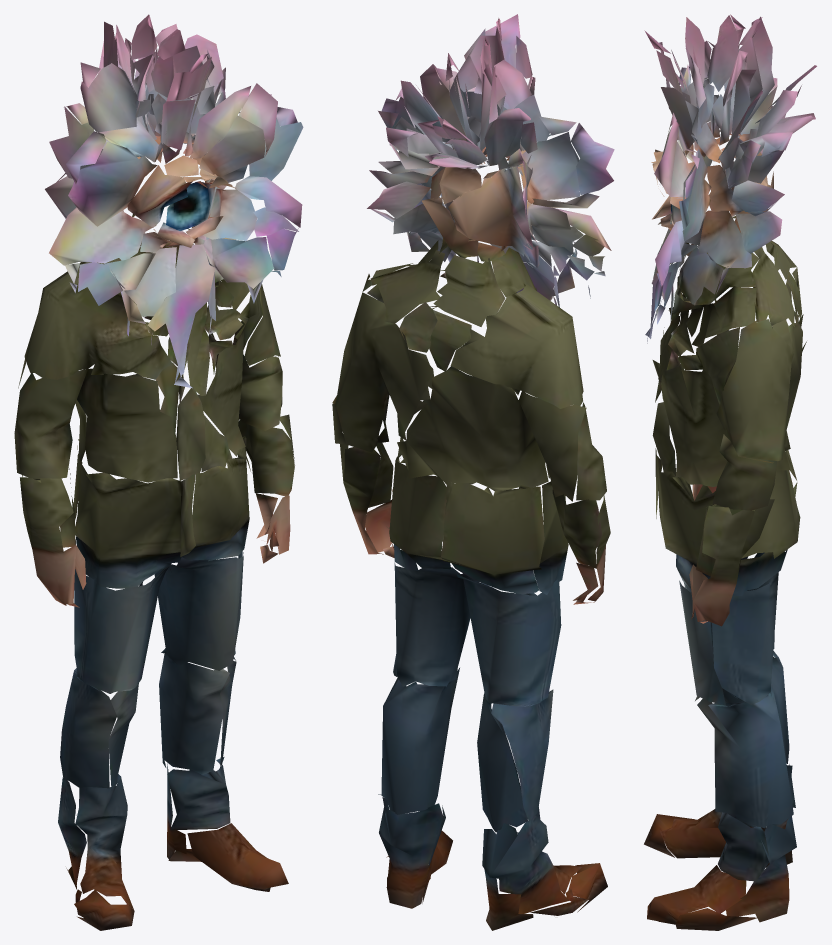
Rendered from crowd_cabbie_full.glb.
The picture shows the model from 3 angles, left to right: view 1: azimuth 30°, elevation 25°; view 2: azimuth 150°, elevation 25°; view 3: azimuth 270°, elevation 25°; orthographic projection.
Parts seen in each view (by area): view 1: tripo_node_a42e675f-a73e-45f9-b257-74cbc0c52e2a; view 2: tripo_node_a42e675f-a73e-45f9-b257-74cbc0c52e2a; view 3: tripo_node_a42e675f-a73e-45f9-b257-74cbc0c52e2a.
Part boxes in pixels (x1,y1,x2,y2): tripo_node_a42e675f-a73e-45f9-b257-74cbc0c52e2a: (14,14,303,930); tripo_node_a42e675f-a73e-45f9-b257-74cbc0c52e2a: (332,14,614,930); tripo_node_a42e675f-a73e-45f9-b257-74cbc0c52e2a: (644,14,816,930).
Size of the model in its own units: 0.3152 by 0.9997 by 0.1802.
Materials: 1 (1 with a texture image).
